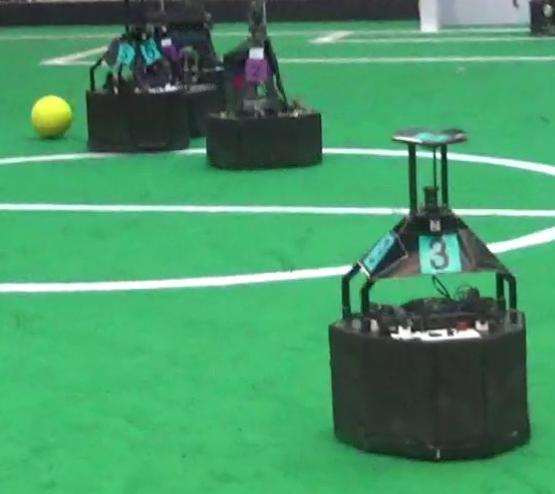robot: (310, 115, 541, 459), (199, 1, 331, 175), (73, 1, 192, 162)
